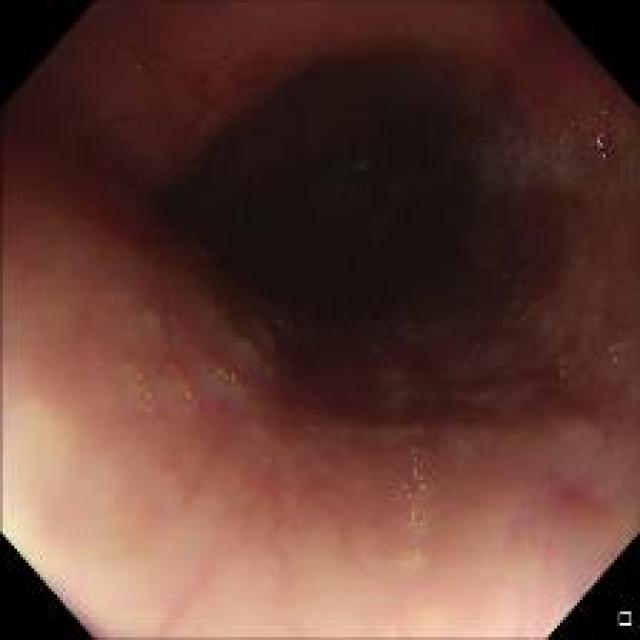bubbles: (492, 109, 629, 188), (225, 328, 294, 384), (399, 445, 430, 532), (205, 358, 262, 401), (164, 362, 210, 415), (126, 365, 155, 411), (398, 544, 425, 564)
color misalignment: (591, 121, 610, 161)
contrast: (149, 64, 572, 418)
